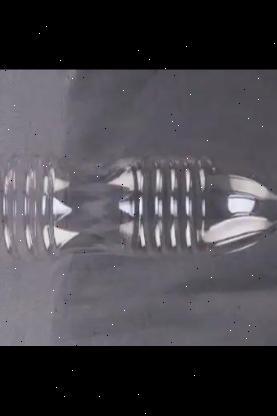Plastic Bottle: (0, 155, 277, 264)
